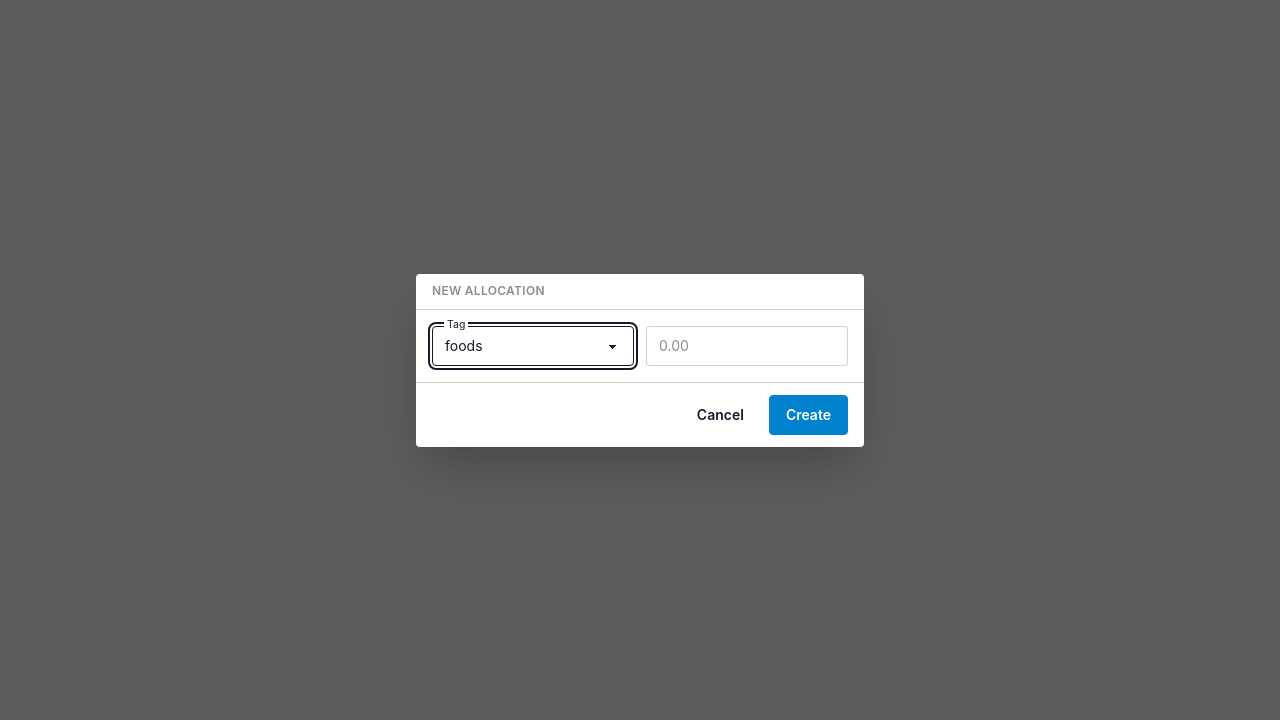
Test: NewAllocationModal › rejects amount of 0 with a validation message
The image size is (1280, 720).
Type "0" into the number field named "Amount". click: [747, 346]
box: [646,326,848,366]
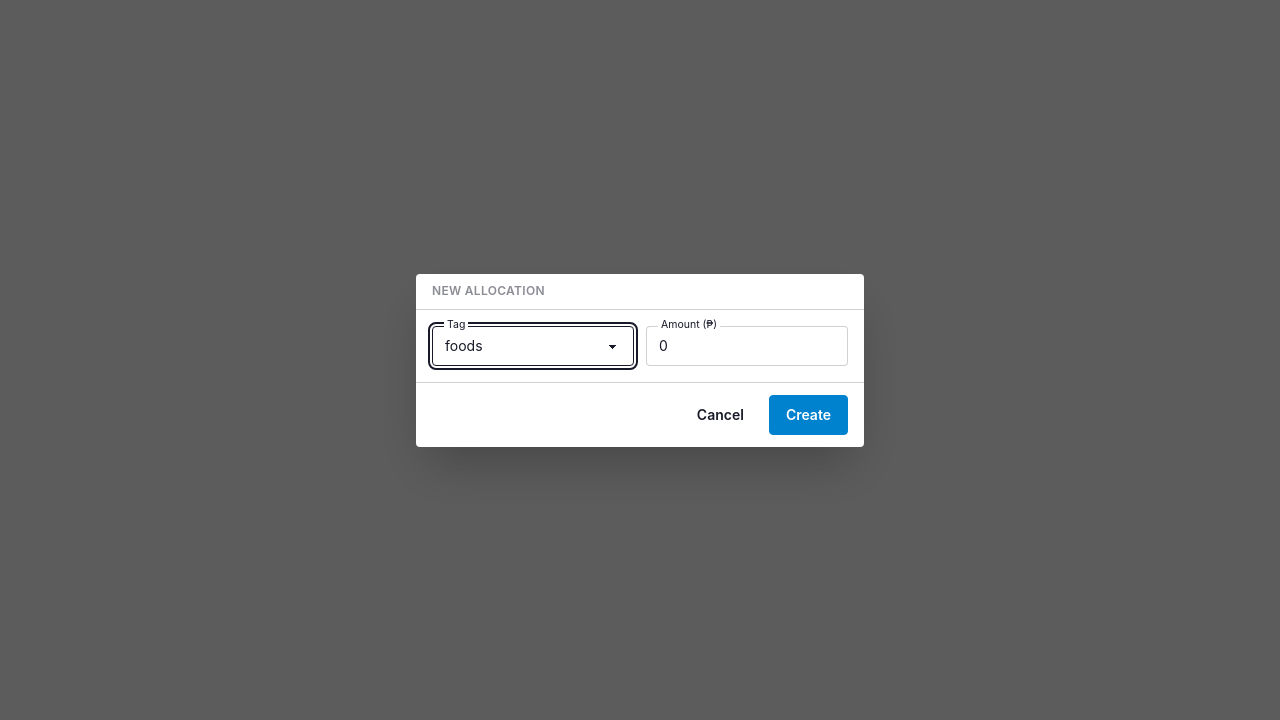
Click the button "Create". click: [808, 414]
box: [769,394,848,434]
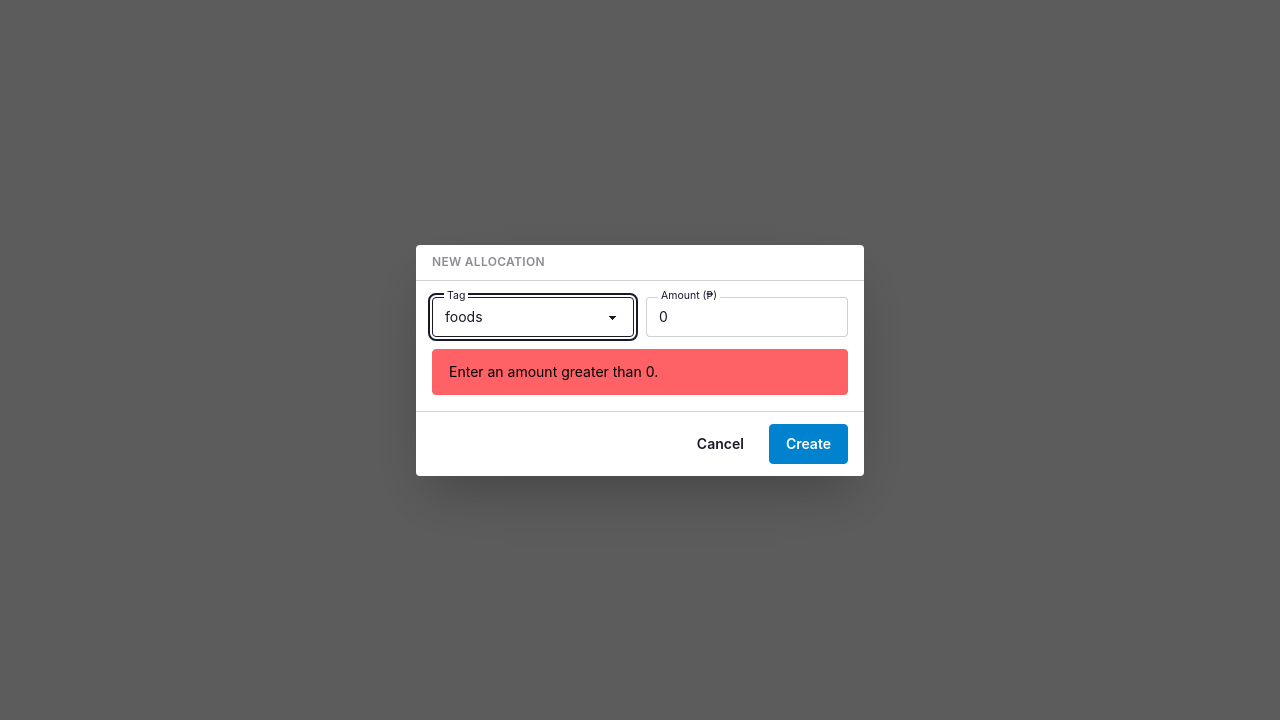
Check: the text "Enter an amount greater than 0." is shown, box [432,348,848,394]
